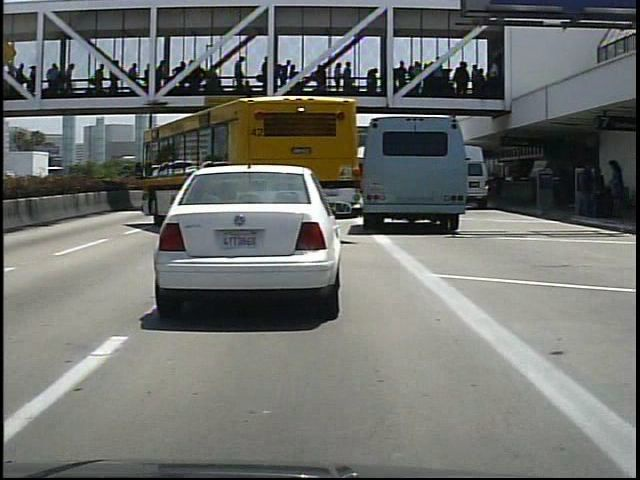person: (576, 158, 608, 219), (606, 155, 633, 221)
